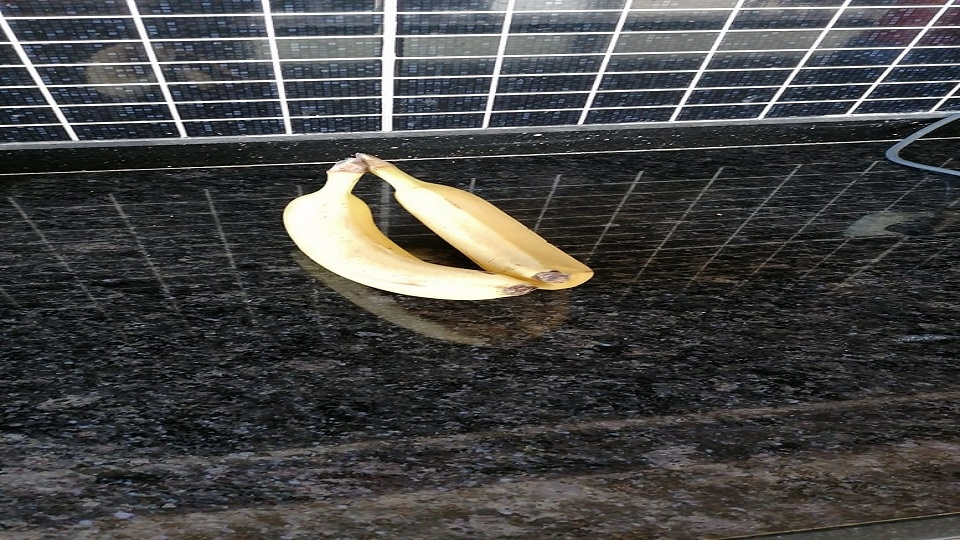muz: (280, 158, 533, 304), (358, 153, 595, 293)
